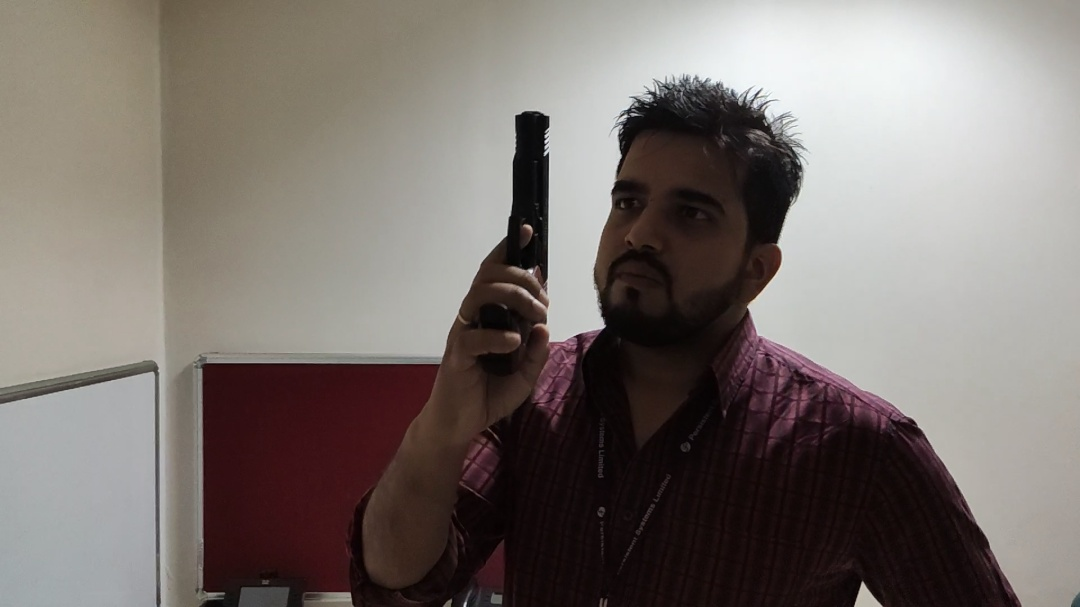gun: (461, 106, 559, 385)
